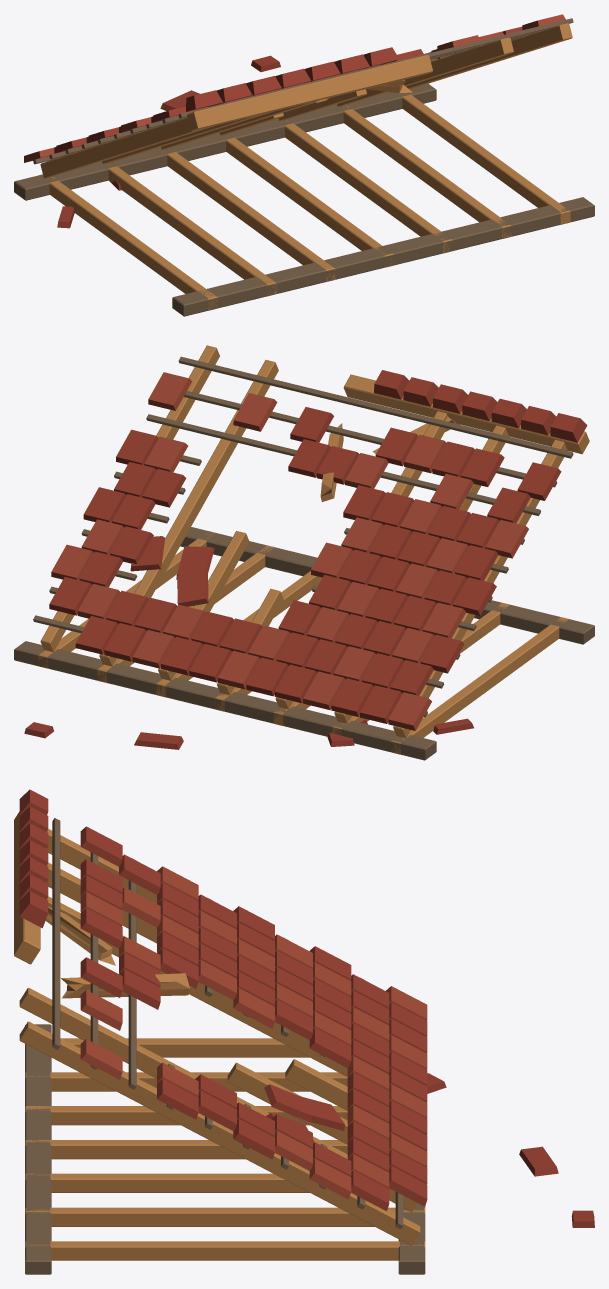
File: DESTROY_06.obj
3 views of the same model, one above another, from view 1: azimuth 30°, elevation 25°; view 2: azimuth 150°, elevation 25°; view 3: azimuth 270°, elevation 25° (orthographic). The views are drawn at different scales.
Parts seen in each view (by area): view 1: DESTROY_06__tie_beams, DESTROY_06__wall_plate, DESTROY_06__rafters, DESTROY_06__ridge_beam, DESTROY_06__ridge_tiles, DESTROY_06__tiles, DESTROY_06__battens, DESTROY_06__debris_tiles, DESTROY_06__rafter_snapped; view 2: DESTROY_06__tiles, DESTROY_06__wall_plate, DESTROY_06__rafters, DESTROY_06__tie_beams, DESTROY_06__battens, DESTROY_06__ridge_tiles, DESTROY_06__ridge_beam, DESTROY_06__loose_tiles, DESTROY_06__rafter_snapped, DESTROY_06__debris_tiles, DESTROY_06__rafter_snapped_end; view 3: DESTROY_06__tiles, DESTROY_06__tie_beams, DESTROY_06__rafters, DESTROY_06__wall_plate, DESTROY_06__battens, DESTROY_06__ridge_tiles, DESTROY_06__rafter_snapped, DESTROY_06__rafter_snapped_end, DESTROY_06__loose_tiles, DESTROY_06__ridge_beam, DESTROY_06__debris_tiles.
Boxes of the visible parts, x1=… form: DESTROY_06__tie_beams: x1=49, y1=94, x2=570, y2=310; DESTROY_06__wall_plate: x1=14, y1=83, x2=594, y2=316; DESTROY_06__rafters: x1=40, y1=23, x2=572, y2=178; DESTROY_06__ridge_beam: x1=187, y1=55, x2=432, y2=131; DESTROY_06__ridge_tiles: x1=186, y1=47, x2=398, y2=111; DESTROY_06__tiles: x1=24, y1=14, x2=565, y2=162; DESTROY_06__battens: x1=33, y1=18, x2=573, y2=164; DESTROY_06__debris_tiles: x1=57, y1=55, x2=280, y2=228; DESTROY_06__rafter_snapped: x1=219, y1=89, x2=366, y2=135; DESTROY_06__tiles: x1=49, y1=372, x2=561, y2=730; DESTROY_06__wall_plate: x1=14, y1=527, x2=594, y2=760; DESTROY_06__rafters: x1=40, y1=345, x2=567, y2=737; DESTROY_06__tie_beams: x1=38, y1=531, x2=568, y2=754; DESTROY_06__battens: x1=33, y1=356, x2=573, y2=717; DESTROY_06__ridge_tiles: x1=374, y1=370, x2=587, y2=442; DESTROY_06__ridge_beam: x1=343, y1=374, x2=589, y2=454; DESTROY_06__loose_tiles: x1=130, y1=536, x2=214, y2=606; DESTROY_06__rafter_snapped: x1=158, y1=531, x2=283, y2=695; DESTROY_06__debris_tiles: x1=24, y1=718, x2=473, y2=749; DESTROY_06__rafter_snapped_end: x1=320, y1=417, x2=459, y2=501; DESTROY_06__tiles: x1=80, y1=826, x2=427, y2=1211; DESTROY_06__tie_beams: x1=25, y1=1038, x2=425, y2=1260; DESTROY_06__rafters: x1=19, y1=829, x2=420, y2=1245; DESTROY_06__wall_plate: x1=25, y1=1024, x2=425, y2=1274; DESTROY_06__battens: x1=52, y1=818, x2=403, y2=1229; DESTROY_06__ridge_tiles: x1=19, y1=789, x2=48, y2=928; DESTROY_06__rafter_snapped: x1=227, y1=1059, x2=347, y2=1144; DESTROY_06__rafter_snapped_end: x1=45, y1=906, x2=189, y2=998; DESTROY_06__loose_tiles: x1=264, y1=1084, x2=344, y2=1143; DESTROY_06__ridge_beam: x1=14, y1=811, x2=40, y2=964; DESTROY_06__debris_tiles: x1=427, y1=1073, x2=594, y2=1227.
Bounding box in the file's own units: 4.23 × 2.12 × 4.36.
